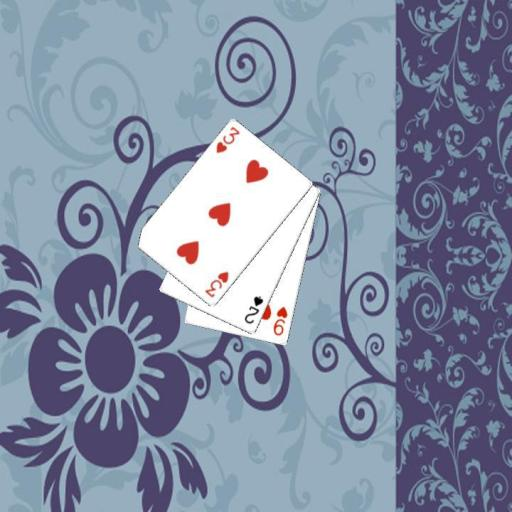2S: (241, 293, 265, 326)
3H: (213, 124, 242, 155), (202, 269, 231, 299)
9H: (271, 304, 290, 337)
